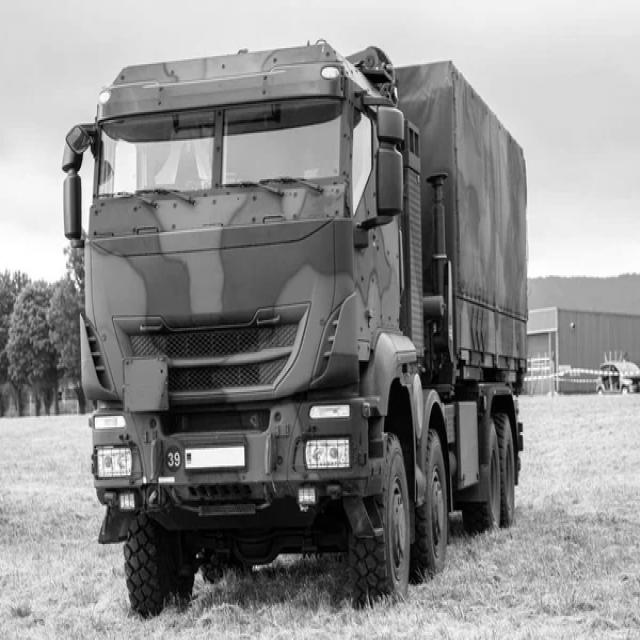Truck: (62, 42, 529, 615)
